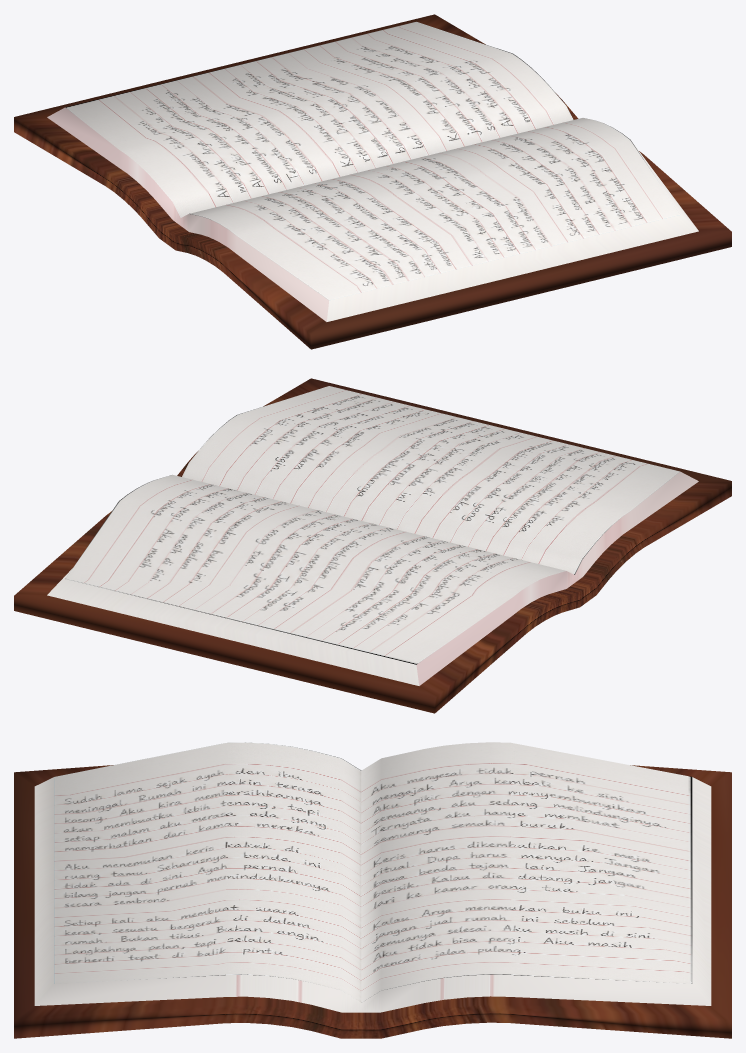
File: Noted kakak.fbx
3 views of the same model, one above another, from view 1: azimuth 30°, elevation 25°; view 2: azimuth 150°, elevation 25°; view 3: azimuth 270°, elevation 25° (orthographic). The views are drawn at different scales.
Parts seen in each view (by area): view 1: Catatan kakak; view 2: Catatan kakak; view 3: Catatan kakak.
Part boxes in pixels (bbox=[...]): Catatan kakak: bbox=[14, 14, 731, 349]; Catatan kakak: bbox=[14, 378, 731, 713]; Catatan kakak: bbox=[14, 742, 731, 1038].
Bounding box in the file's own units: 310 × 32.72 × 379.
Materials: 2 (2 with a texture image).
